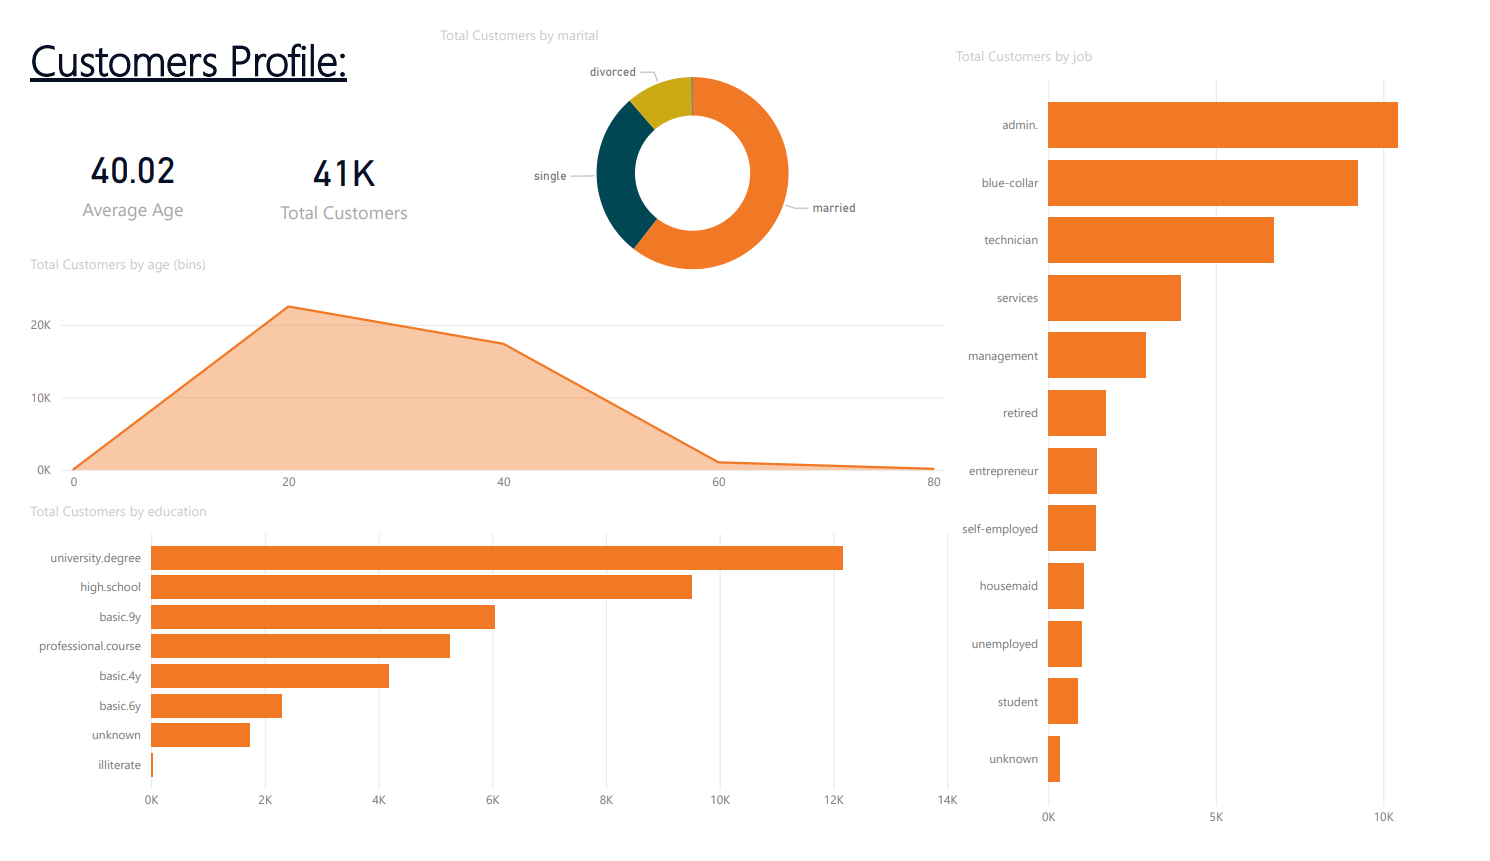

The page's visual inventory and layout, read from the dashboard file:
{"tool":"powerbi","page":{"name":"Customers","canvas":[1280,720],"ordinal":0},"visuals":[{"type":"card","fields":{"Values":["Worksheet.Average Age"]},"box":[0,49.4,192.1,175.6],"z":0},{"type":"card","fields":{"Values":["Worksheet.Total Customers"]},"box":[192.1,53.5,182.5,171.5],"z":1000},{"type":"textbox","box":[0,0,343.3,98.2],"z":2000},{"type":"donutChart","fields":{"Category":["Worksheet.marital"],"Y":["Worksheet.Total Customers"]},"box":[363.6,0,458.3,247],"z":3000},{"type":"barChart","fields":{"Category":["Worksheet.education"],"Y":["Worksheet.Total Customers"]},"box":[0,422.6,832.9,282.7],"z":4000},{"type":"clusteredBarChart","fields":{"Category":["Worksheet.job"],"Y":["Worksheet.Total Customers"]},"box":[822,19.2,458.3,701.2],"z":5000},{"type":"areaChart","fields":{"Category":["Worksheet.age (bins)"],"Y":["Worksheet.Total Customers"]},"box":[0,204.5,822,218.2],"z":6000}]}

Visuals, with their boxes in screenshot pixels (x1, y1, x2, y2), scaled from the page's 1280x720 canvas onto the 1490x861 screenshot:
card - Worksheet.Average Age: (0,59,224,269)
card - Worksheet.Total Customers: (224,64,436,269)
textbox: (0,0,400,117)
donutChart - Worksheet.marital x Worksheet.Total Customers: (423,0,957,295)
barChart - Worksheet.education x Worksheet.Total Customers: (0,505,970,843)
clusteredBarChart - Worksheet.job x Worksheet.Total Customers: (957,23,1489,860)
areaChart - Worksheet.age (bins) x Worksheet.Total Customers: (0,245,957,505)
